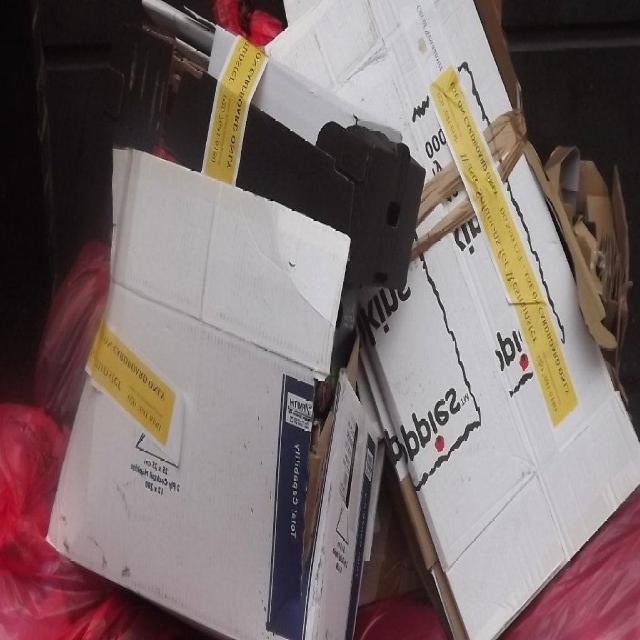cardboard: (301, 0, 640, 640), (45, 144, 378, 640)
